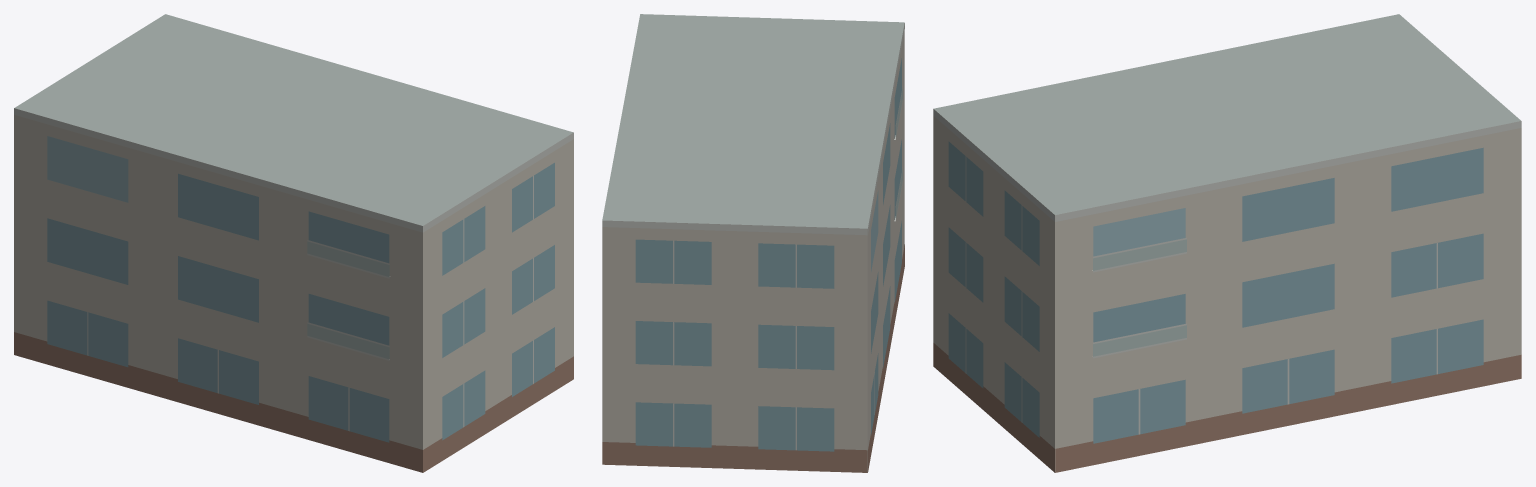
The model's file is survey-upis-32708294.glb.
The picture shows the model from 3 angles, left to right: view 1: azimuth 30°, elevation 25°; view 2: azimuth 150°, elevation 25°; view 3: azimuth 270°, elevation 25°; orthographic projection. The views are drawn at different scales.
Visible parts, largest first — view 1: survey-upis-32708294.tmp; view 2: survey-upis-32708294.tmp; view 3: survey-upis-32708294.tmp.
Boxes of the visible parts, x1,y1,x2,y2 form: survey-upis-32708294.tmp: (14,14,573,472); survey-upis-32708294.tmp: (602,14,904,472); survey-upis-32708294.tmp: (933,14,1521,472).
Size of the model in its own units: 15.33 by 9.15 by 18.94.
